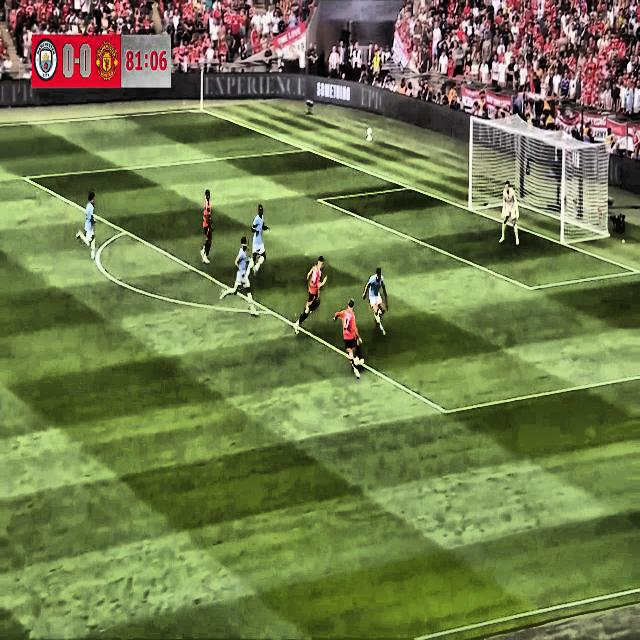ball: (351, 352, 365, 370)
goal_keeper: (494, 178, 524, 252)
players: (288, 243, 329, 345), (326, 290, 368, 383), (217, 236, 259, 323), (362, 263, 393, 342), (74, 179, 102, 263), (245, 202, 273, 278), (198, 176, 218, 279)
